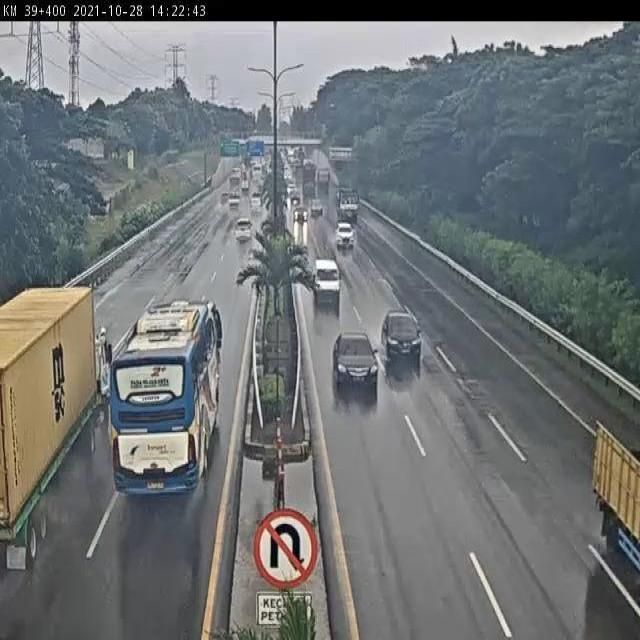bus-l-: (110, 300, 222, 497)
truck-xl-: (0, 285, 112, 572)
